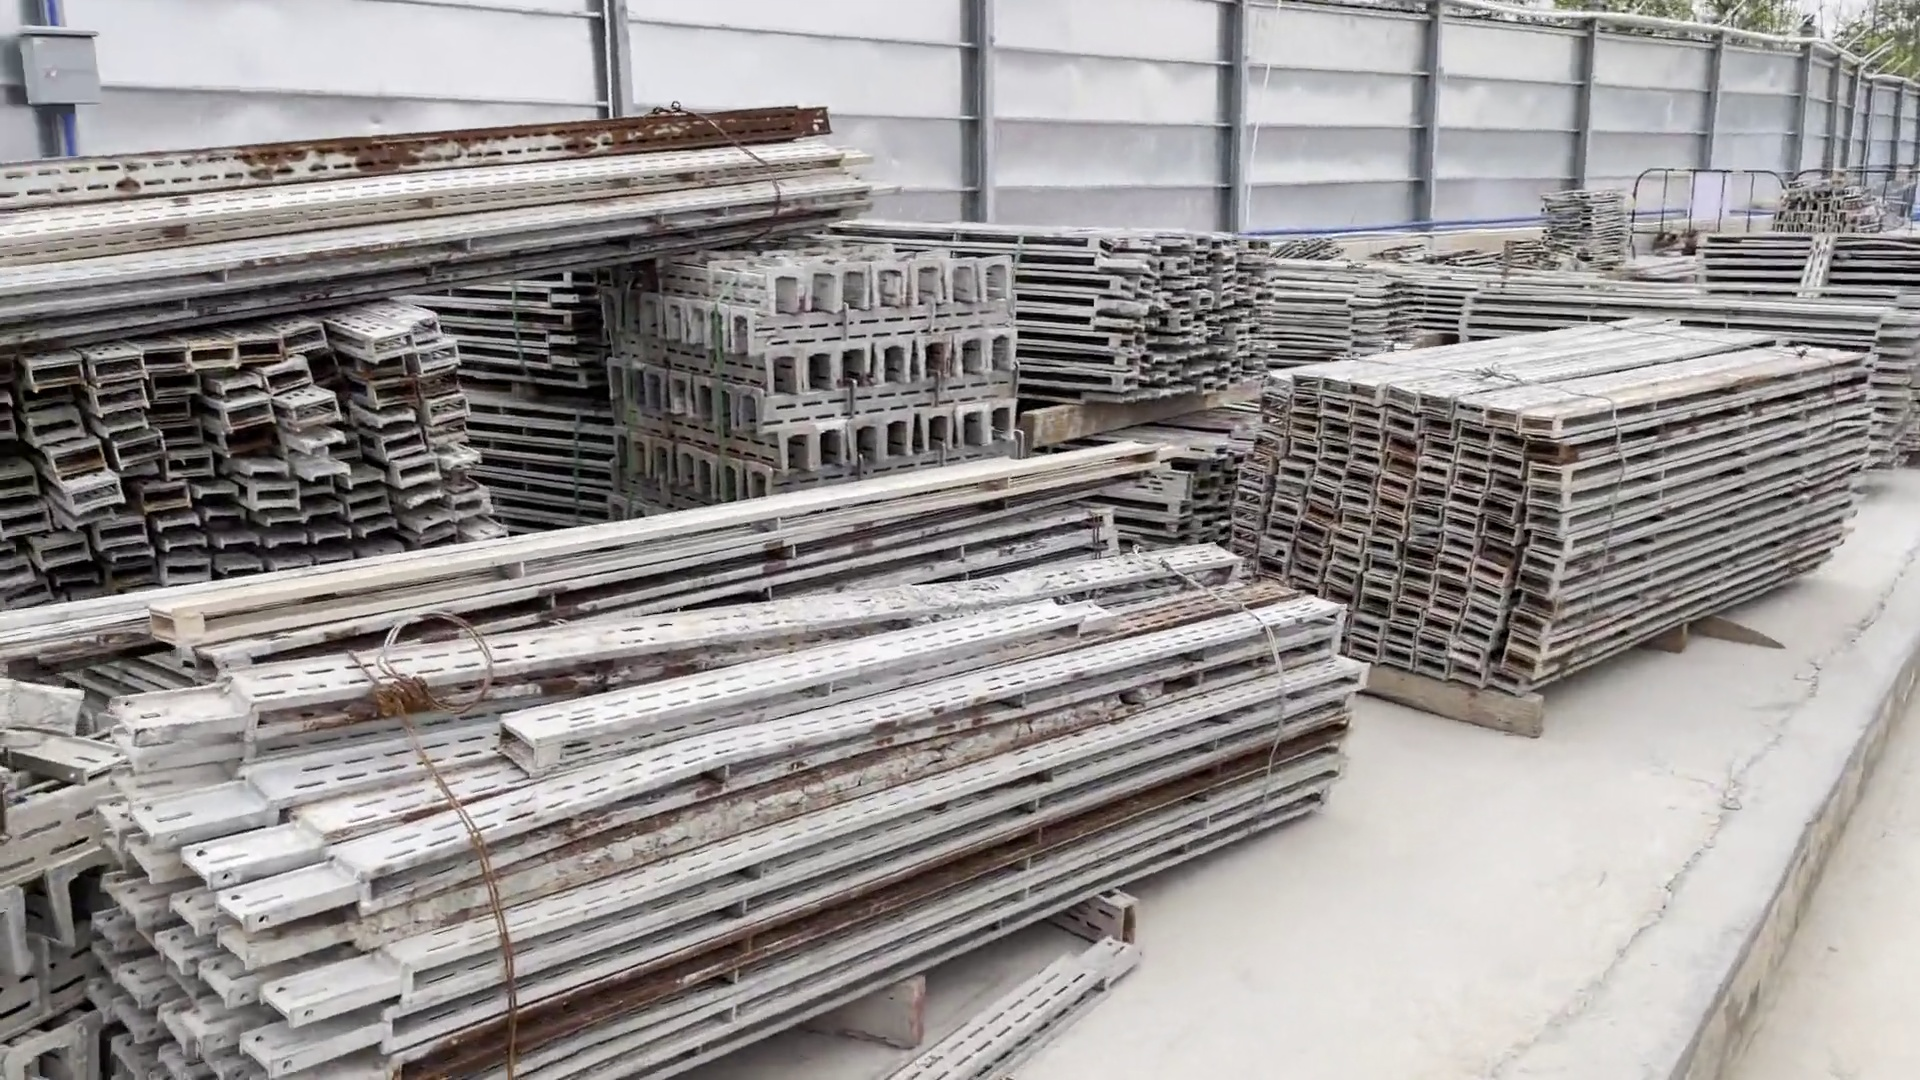ebox: (17, 18, 117, 112)
fence: (1615, 162, 1920, 258)
